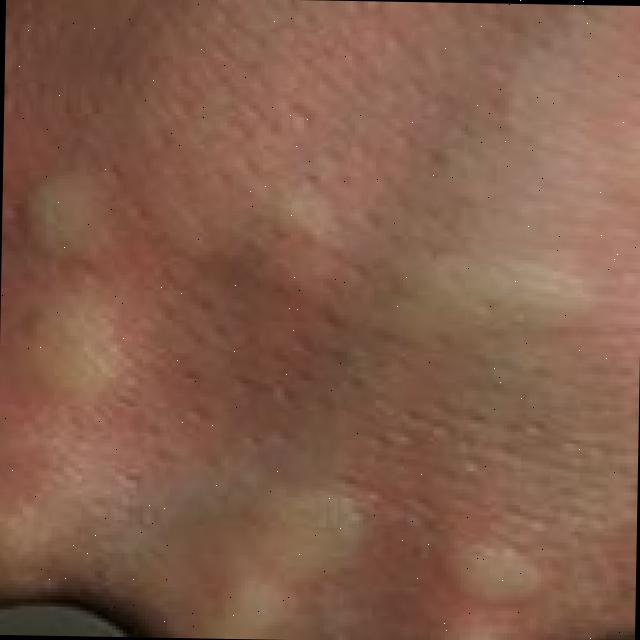sinek: (153, 158, 396, 300), (412, 218, 601, 373), (221, 462, 384, 589), (15, 282, 144, 423), (413, 527, 573, 632), (20, 137, 138, 276)
